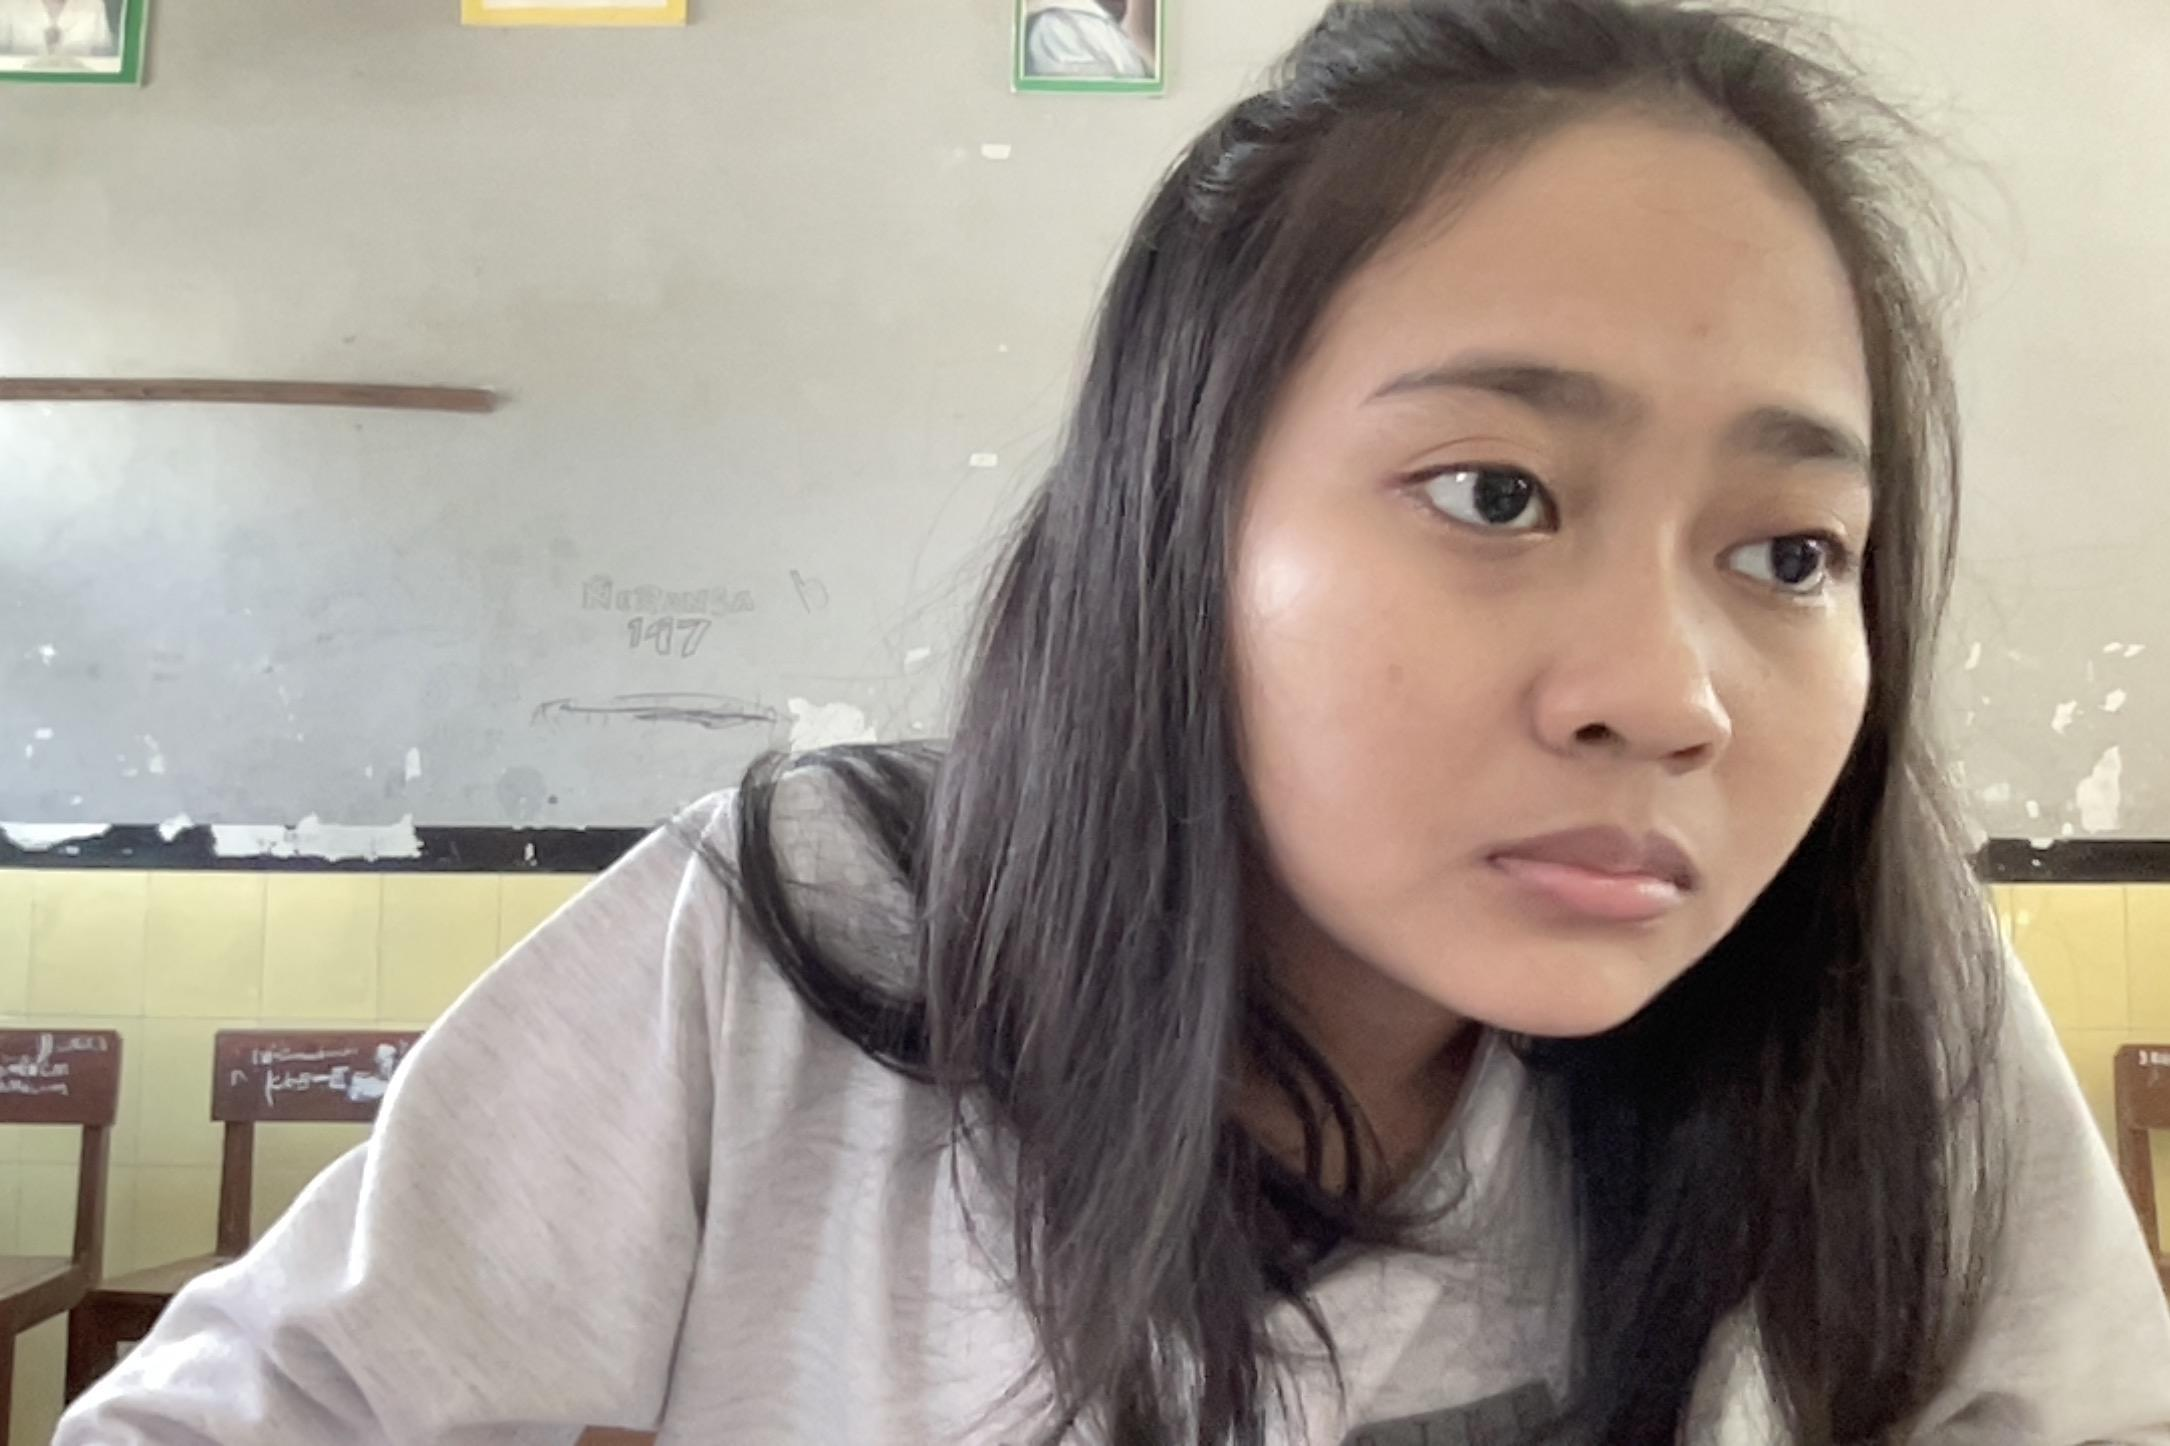cheating: (27, 11, 2170, 1446)
